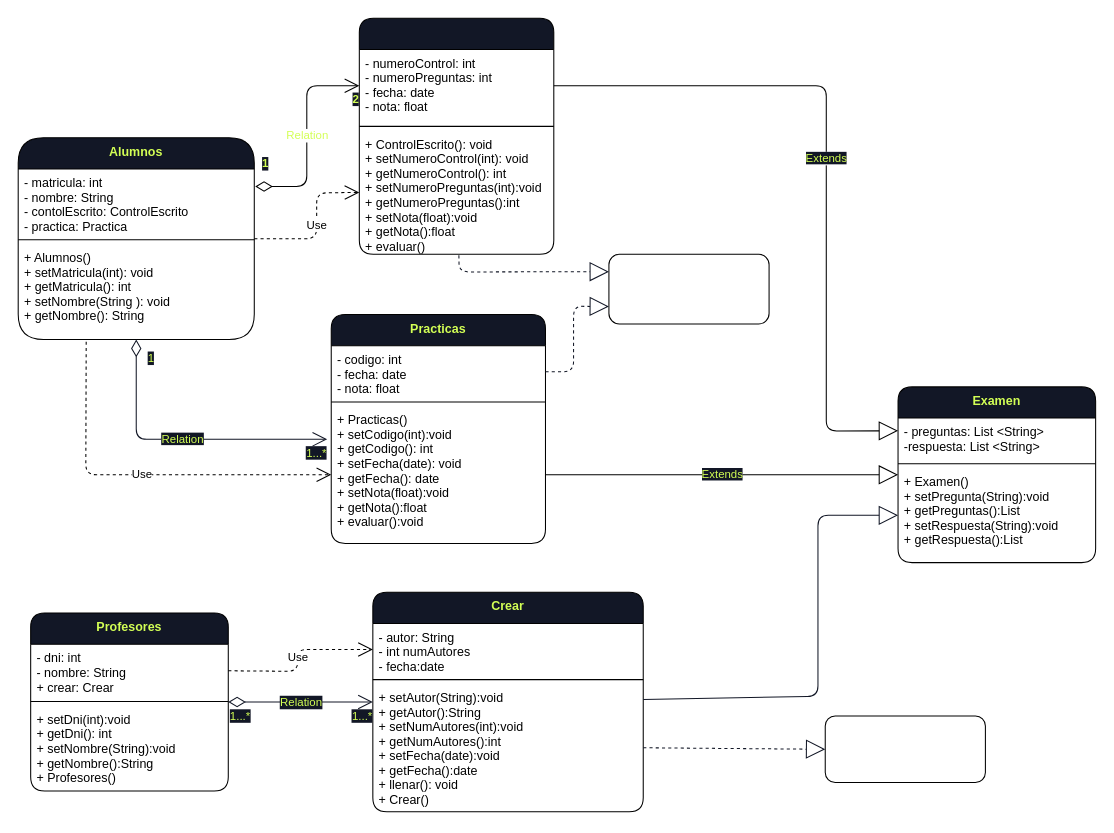
Some shapes in this 1114 by 833 pixel diagram are drawn without their labels. Here are the shapes that lost their labels. From the top down, the box of each, then its label:
(358, 17, 554, 254): ControlEcrito
(608, 253, 769, 324): << interface >> ComplementoPractica + evaluar(): void
(824, 715, 985, 783): << interface >> ComplementoDiseñar + llenar(): void
